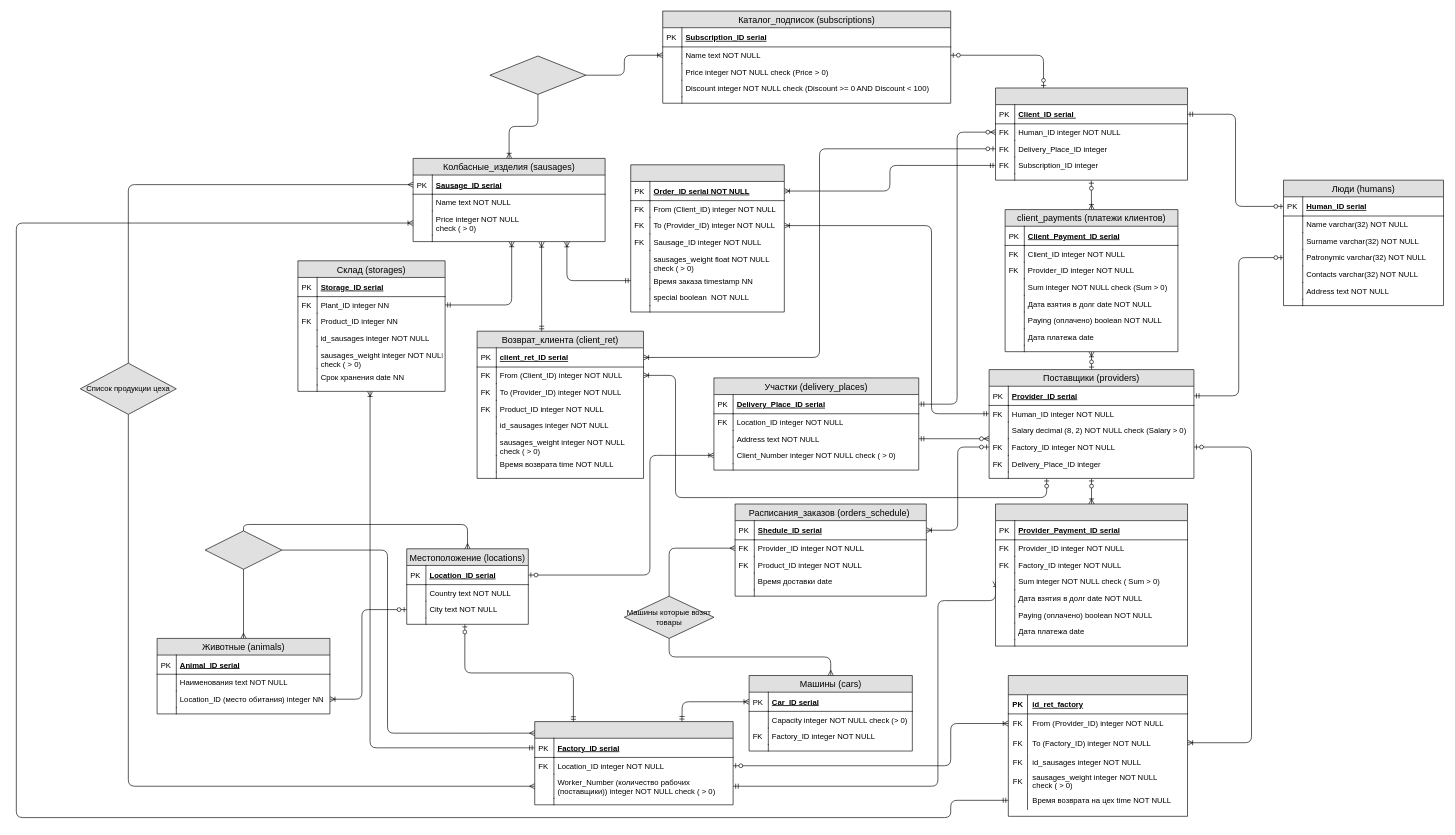
The diagram is 1455 pixels wide and 835 high, and some of its shapes have lost their labels. Here are the shapes that lost their labels. From the top down, the box of each, then its label:
(489, 55, 586, 94): Список колбасных изделий в подписке
(995, 87, 1188, 180): Клиенты (clients)
(630, 164, 784, 312): Заказы (orders)
(204, 530, 282, 569): Фермы
(995, 503, 1188, 646): provider_payments (платежи поставщиков)
(534, 721, 733, 805): Цехи (factories)
(1008, 675, 1188, 816): Возврат_цеху (return_factory)
